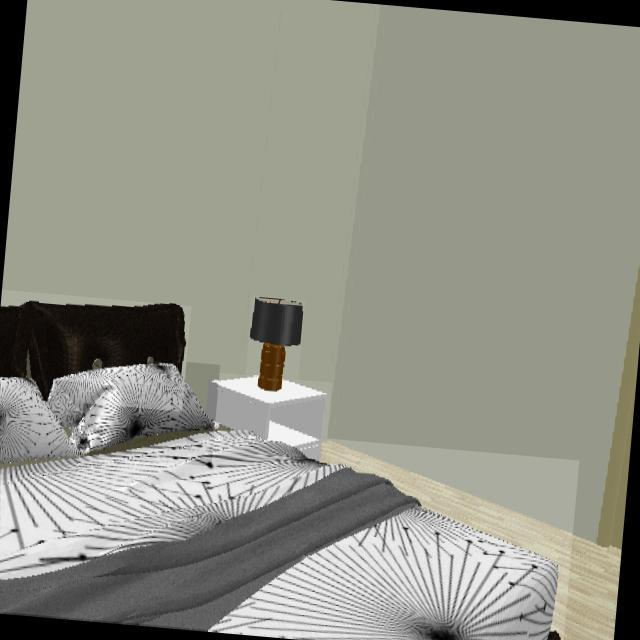bed: (0, 430, 559, 640), (0, 301, 186, 399)
lamp: (248, 297, 303, 391)
nighttable: (206, 376, 330, 459)
pillow: (47, 358, 214, 455), (0, 377, 79, 466)
